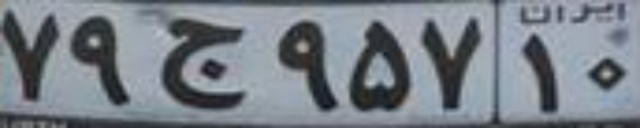0: (582, 55, 632, 93)
1: (517, 31, 561, 113)
5: (349, 20, 413, 112)
7: (420, 14, 483, 109), (2, 8, 57, 101)
9: (277, 18, 340, 111), (68, 15, 128, 107)
jim: (156, 17, 253, 108)
